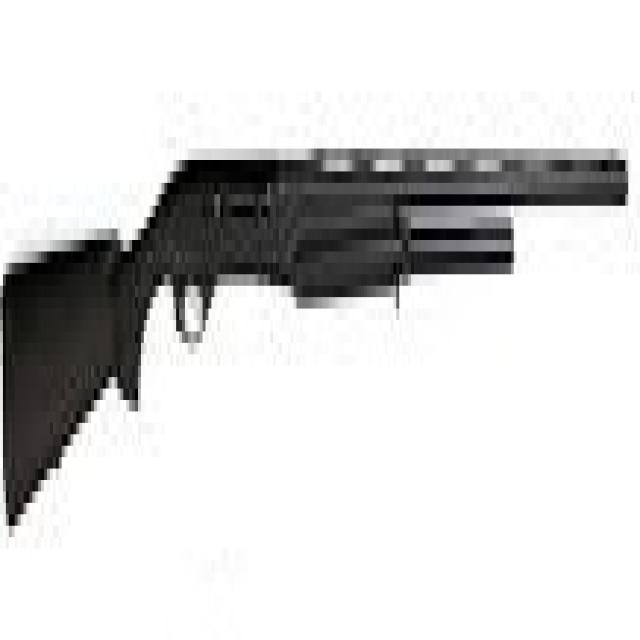rifle: (1, 104, 640, 572)
